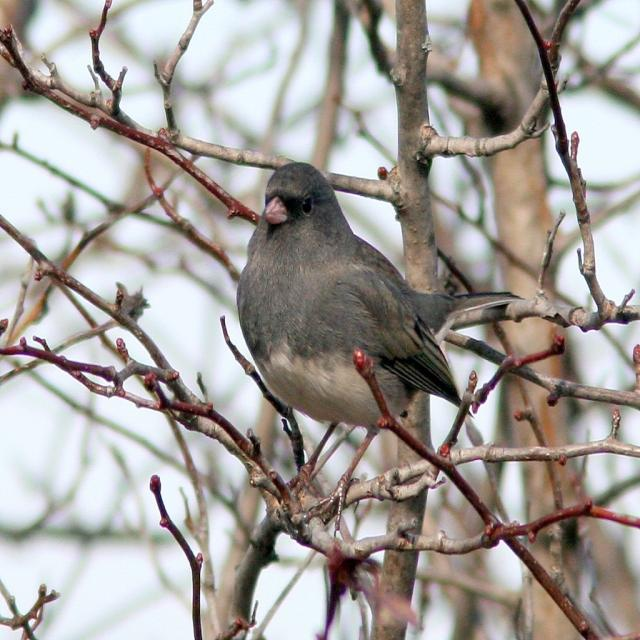bird: (235, 160, 514, 426)
